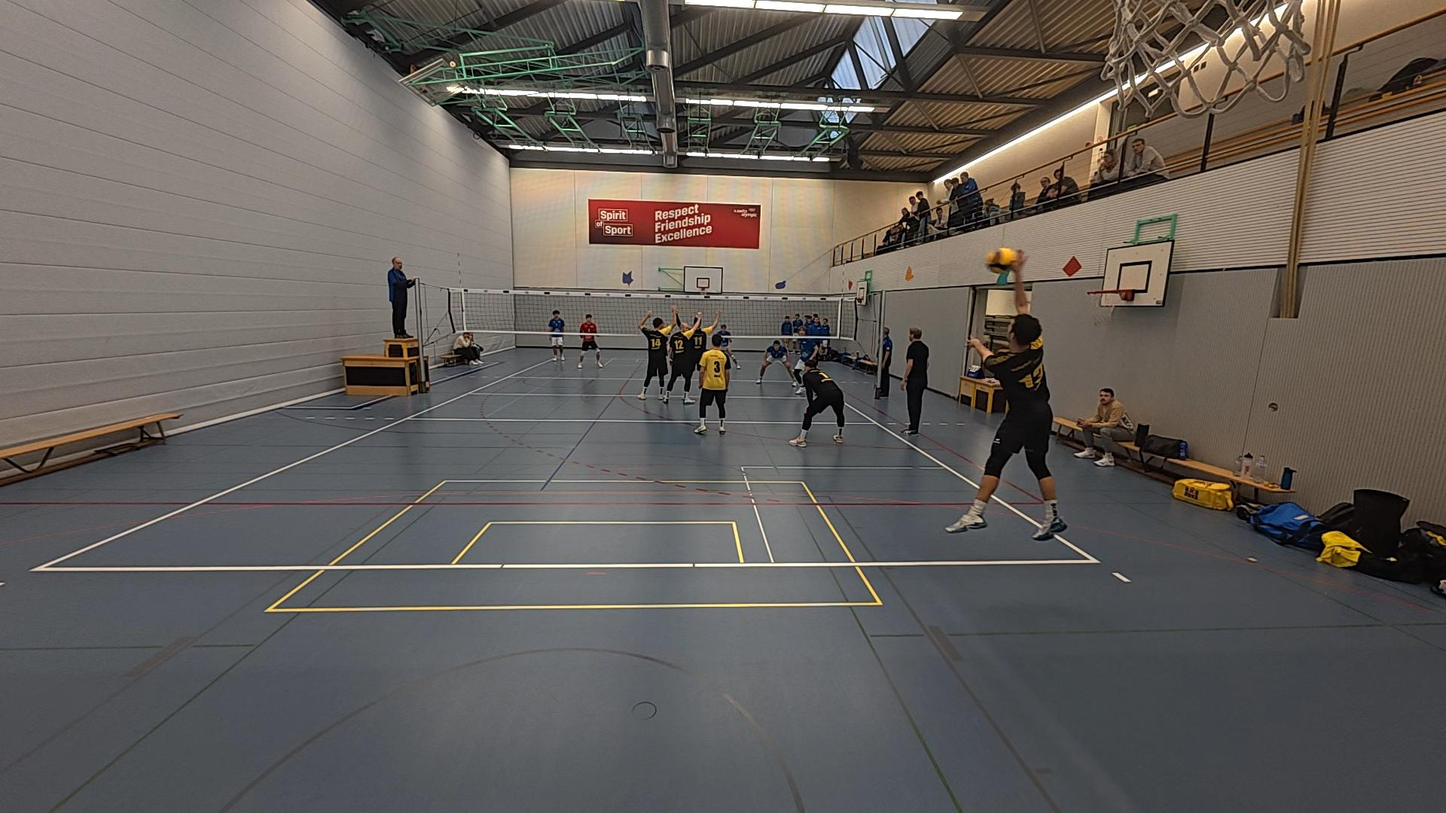Player: (790, 351, 846, 446), (694, 334, 732, 434), (635, 311, 674, 402), (671, 312, 706, 400), (758, 331, 791, 390), (575, 312, 602, 368), (547, 309, 568, 363), (706, 317, 729, 351)
Serve: (944, 259, 1067, 540)
ball: (987, 248, 1020, 268)
